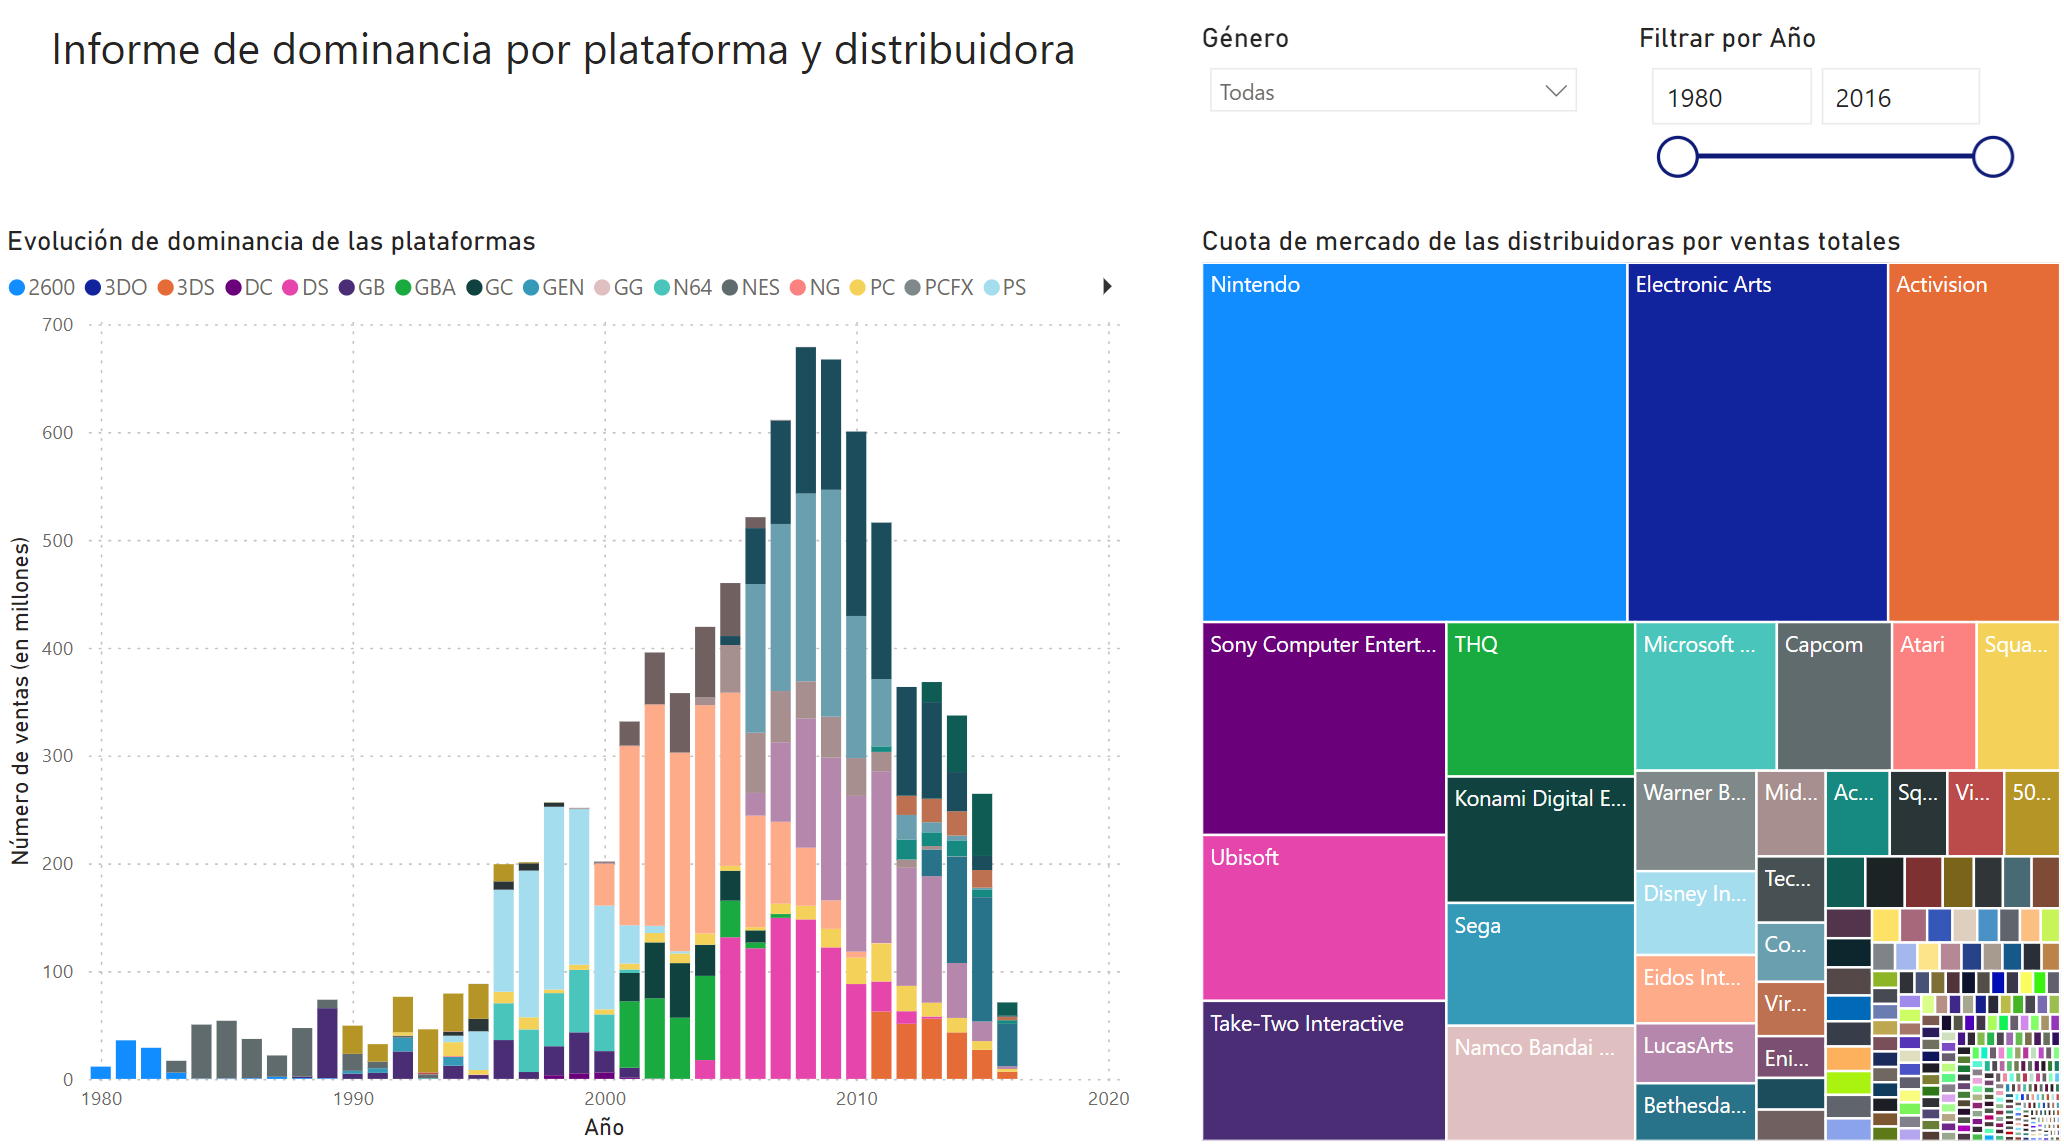

The dashboard page shown, as its layout file describes it:
{"tool":"powerbi","page":{"name":"Plataformas y distribuidoras","canvas":[1280,720],"ordinal":2},"visuals":[{"type":"columnChart","title":"Evolución de dominancia de las plataformas","fields":{"Category":["videogame_sales.Year"],"Y":["Sum(videogame_sales.Global_Sales)"],"Series":["videogame_sales.Platform"]},"box":[0,148.1,704.9,572.1],"z":0},{"type":"treemap","title":"Cuota de mercado de las distribuidoras por ventas totales","fields":{"Group":["videogame_sales.Publisher"],"Values":["Sum(videogame_sales.Global_Sales)"]},"box":[739.2,148.1,540.8,572.1],"z":1000},{"type":"slicer","title":"Filtrar por Año","fields":{"Values":["videogame_sales.Year"]},"box":[1009.7,22.2,244.5,105.4],"z":2000},{"type":"textbox","box":[27,14.6,650.2,78.1],"z":3000},{"type":"slicer","title":"Género","fields":{"Values":["videogame_sales.Genre"]},"box":[739.3,22.2,246.7,105.4],"z":4000}]}

Visuals, with their boxes in screenshot pixels (x1, y1, x2, y2), scaled from the page's 1280x720 canvas onto the 2064x1145 screenshot:
"Evolución de dominancia de las plataformas" columnChart: {"left": 0, "top": 236, "right": 1137, "bottom": 1144}
"Cuota de mercado de las distribuidoras por ventas totales" treemap: {"left": 1192, "top": 236, "right": 2063, "bottom": 1144}
"Filtrar por Año" slicer: {"left": 1628, "top": 35, "right": 2022, "bottom": 203}
textbox: {"left": 44, "top": 23, "right": 1092, "bottom": 147}
"Género" slicer: {"left": 1192, "top": 35, "right": 1590, "bottom": 203}
